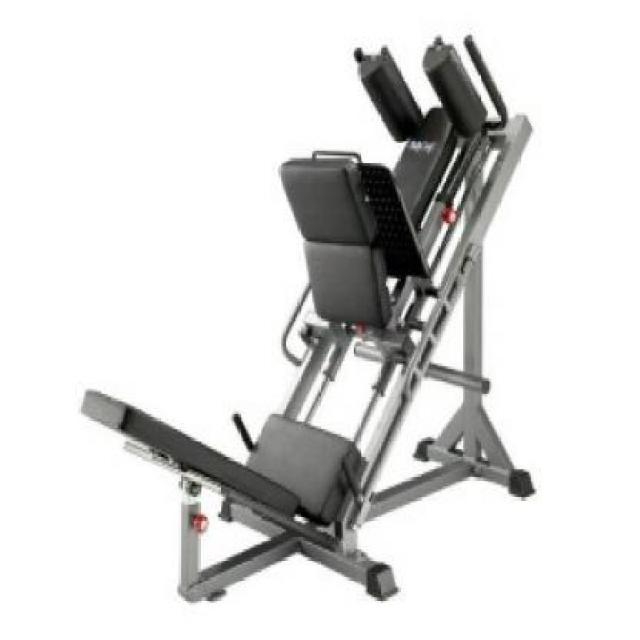leg press: (68, 16, 589, 610)
